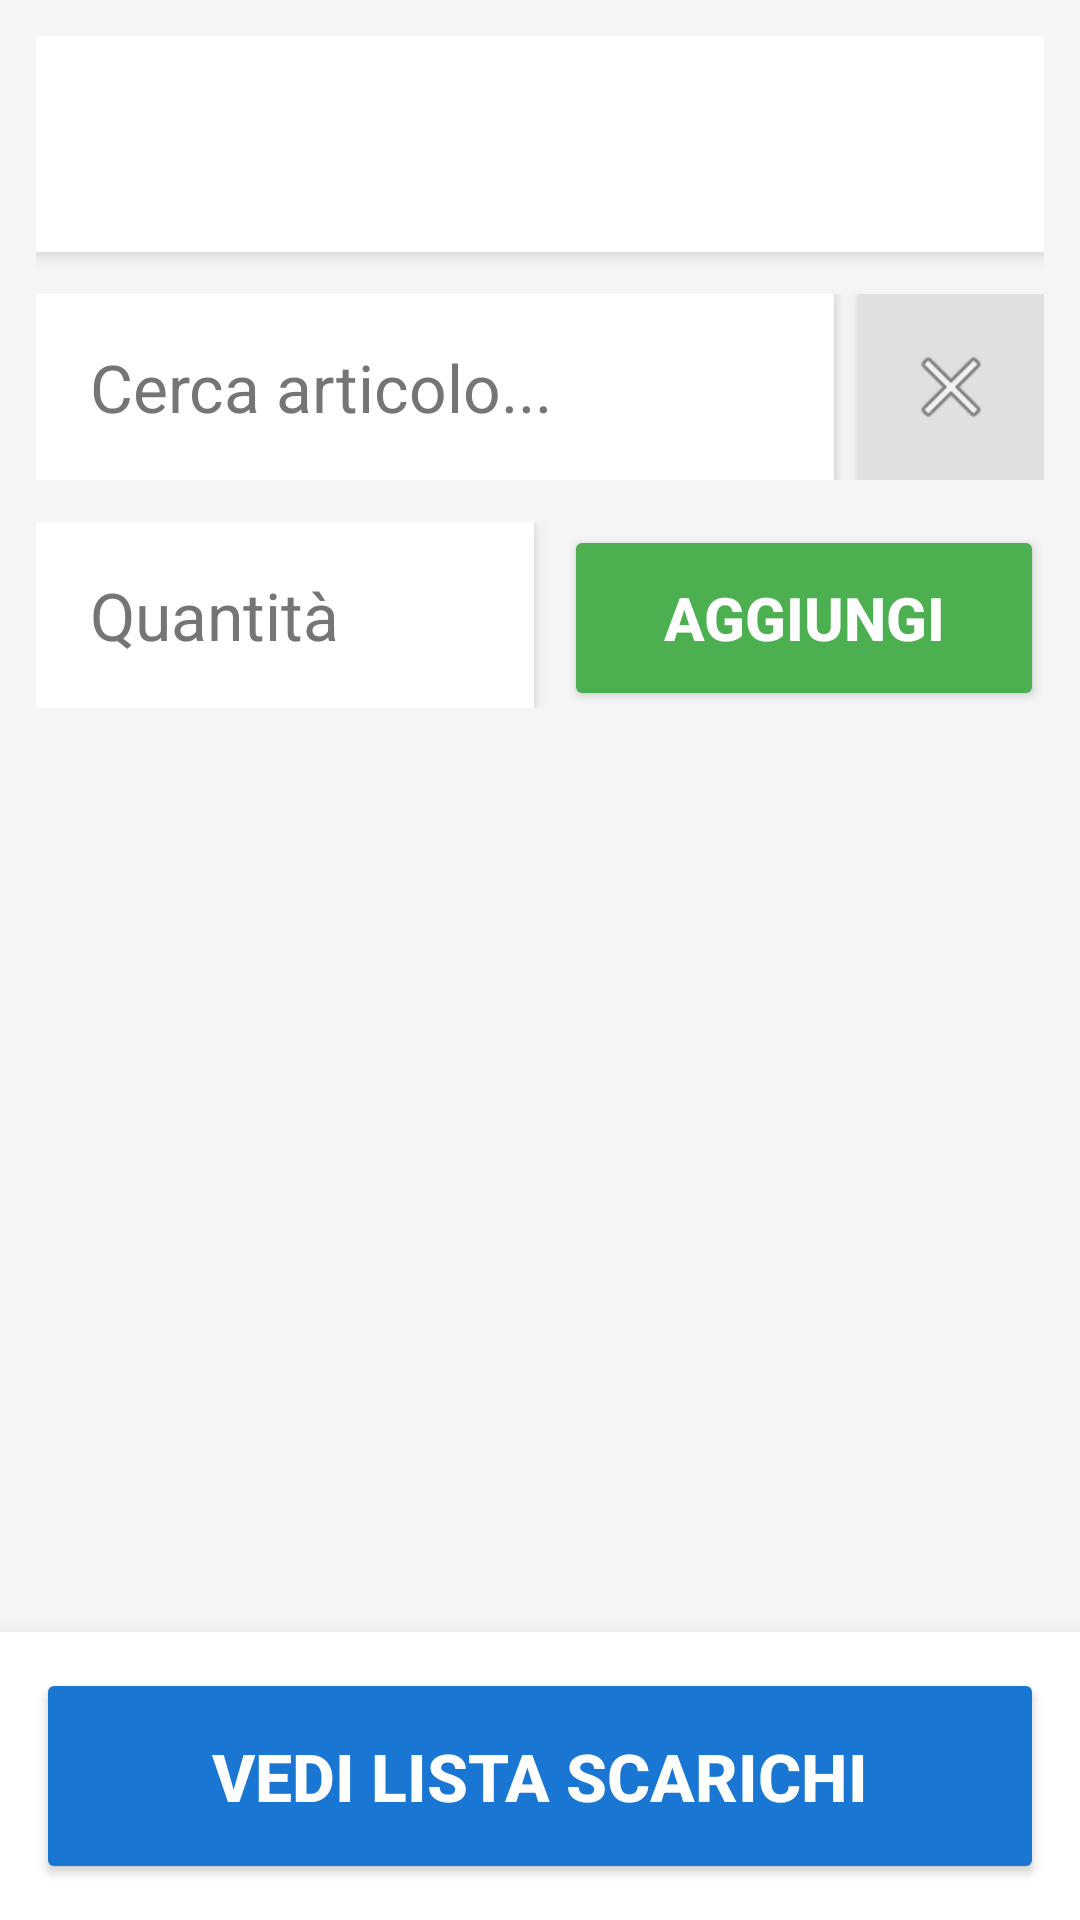

Locate icon controls on the screen. Image size 1080*1920, boxes as {"left": x1, "top": y1, "right": x2, "bottom": y2}.
close clear cancel: {"left": 858, "top": 294, "right": 1044, "bottom": 480}
